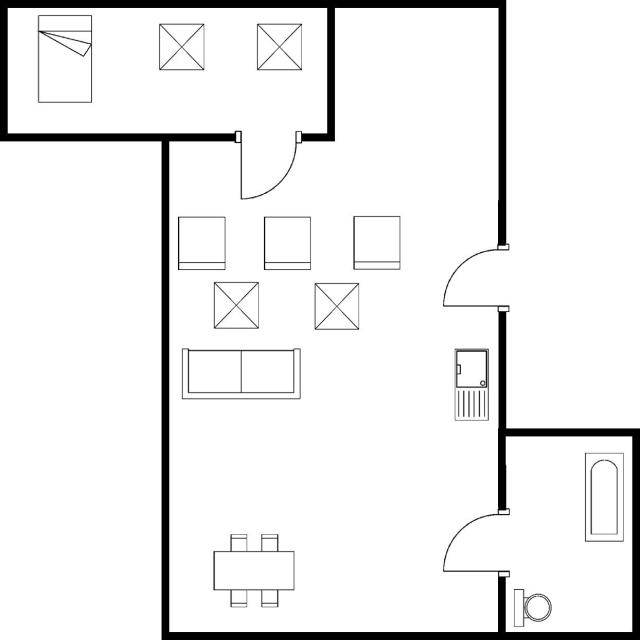bed: (33, 10, 95, 109)
coffee_table: (154, 18, 208, 76), (208, 277, 264, 332), (310, 279, 362, 334), (252, 21, 305, 74)
dining_table: (210, 528, 300, 610)
large_sink: (510, 584, 554, 630)
large_sofa: (177, 344, 304, 406)
sink: (451, 344, 492, 425)
small_sofa: (258, 212, 314, 274), (349, 213, 404, 273), (175, 212, 229, 273)
tub: (578, 446, 628, 546)
